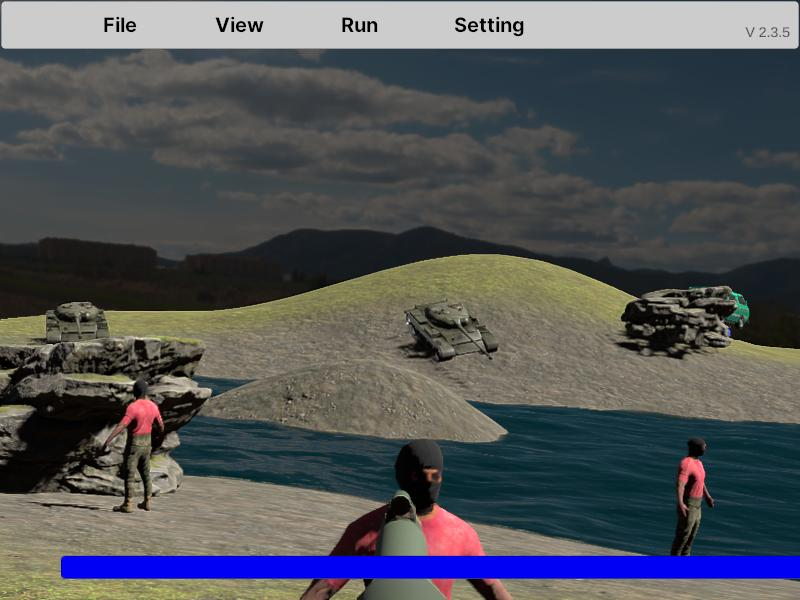Human: (289, 438, 530, 600), (107, 383, 167, 510), (669, 437, 715, 578)
Tank: (404, 297, 498, 363), (45, 300, 109, 344)
